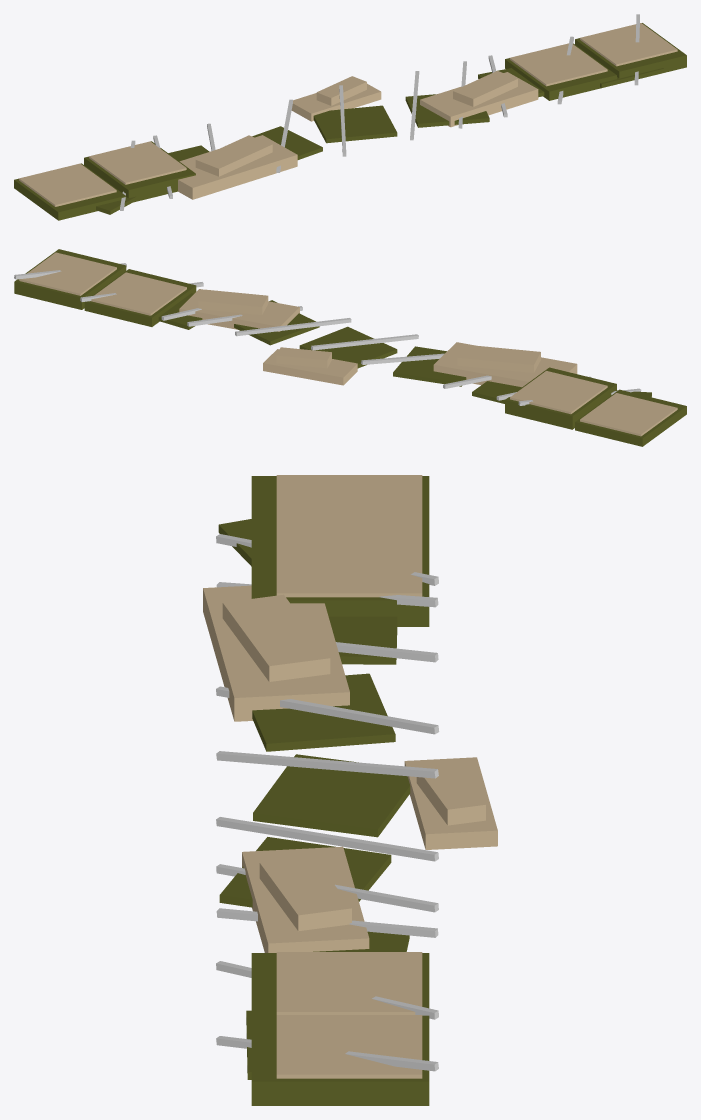
Rendered from SM_MuroHesco_v1_Geotextil_e3_Brecha_LOD0.fbx.
3 views of the same model, one above another, from view 1: azimuth 30°, elevation 25°; view 2: azimuth 150°, elevation 25°; view 3: azimuth 270°, elevation 25° (orthographic). The views are drawn at different scales.
Parts seen in each view (by area): view 1: SM_bloques.muro_hesco_estados_v7_LOD0; view 2: SM_bloques.muro_hesco_estados_v7_LOD0; view 3: SM_bloques.muro_hesco_estados_v7_LOD0.
Part boxes in pixels (x1,y1,x2,y2): SM_bloques.muro_hesco_estados_v7_LOD0: [14, 14, 686, 220]; SM_bloques.muro_hesco_estados_v7_LOD0: [14, 249, 686, 446]; SM_bloques.muro_hesco_estados_v7_LOD0: [203, 475, 497, 1105].
Bounding box in the file's own units: 9.96 × 0.3263 × 2.02.
